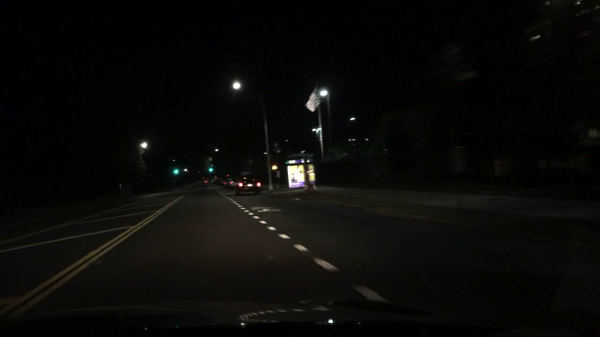car: (234, 175, 263, 197), (222, 176, 237, 190), (200, 177, 209, 184), (211, 178, 220, 185), (219, 176, 225, 186)
traffic light: (173, 169, 179, 174), (209, 168, 213, 172)
